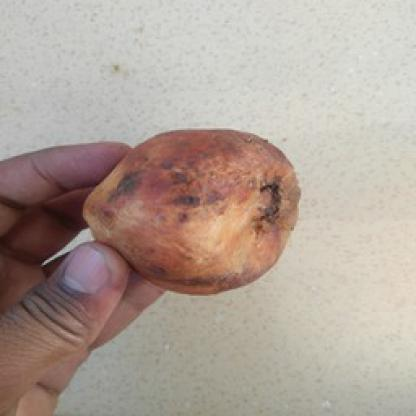guava_rotten: (74, 124, 302, 294)
